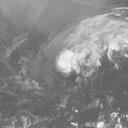cyclone: (56, 40, 93, 75)
